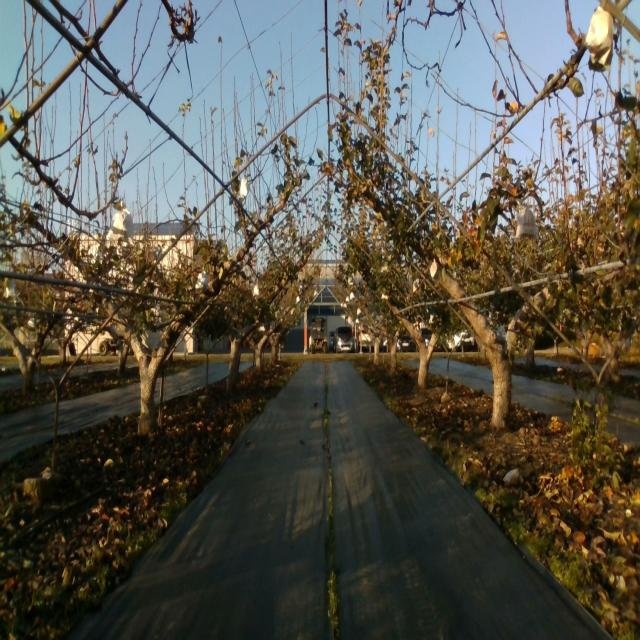pearbags: (585, 7, 614, 71), (103, 202, 134, 248), (515, 203, 539, 239), (194, 266, 209, 290)
